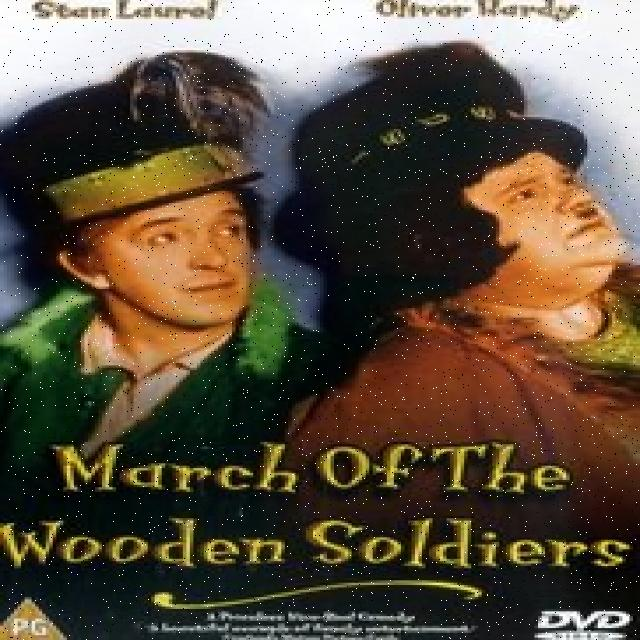movie-judul: (2, 439, 640, 579)
picture: (0, 42, 640, 430)
